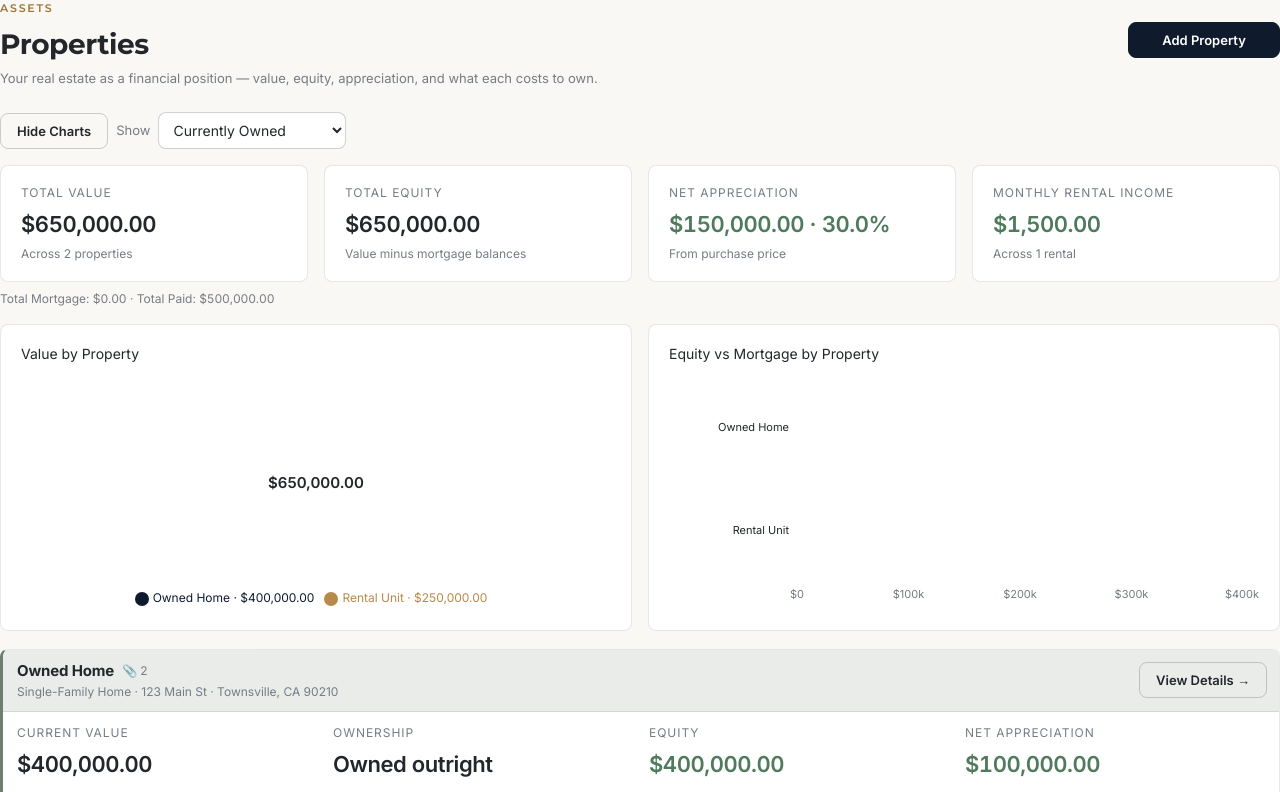
Properties page › toggles charts off and on
Expected: the text "Owned Home" is shown, [17,661,114,680]
Click the button "Hide Charts": (54,130) [0,112,108,148]
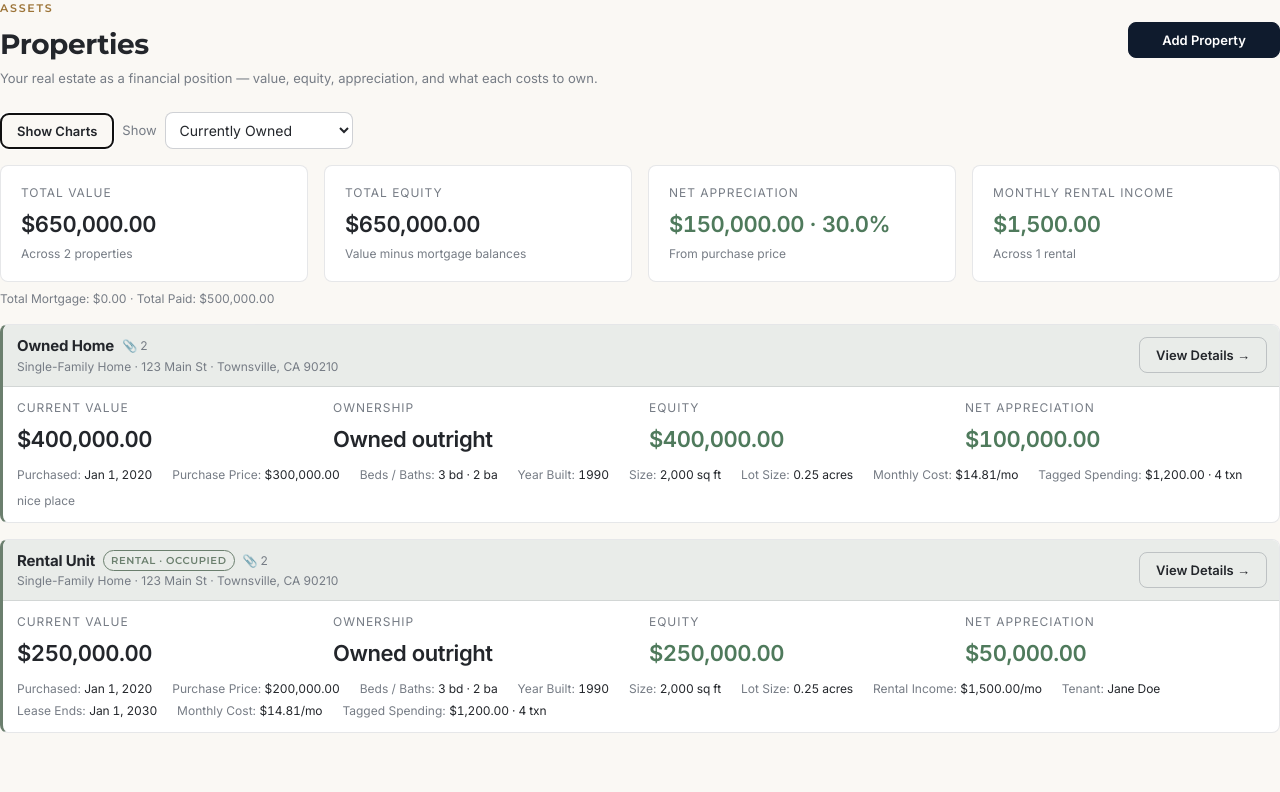
Result: the text "Value by Property" is gone
Click the button "Show Charts": (57,130) [0,112,114,148]
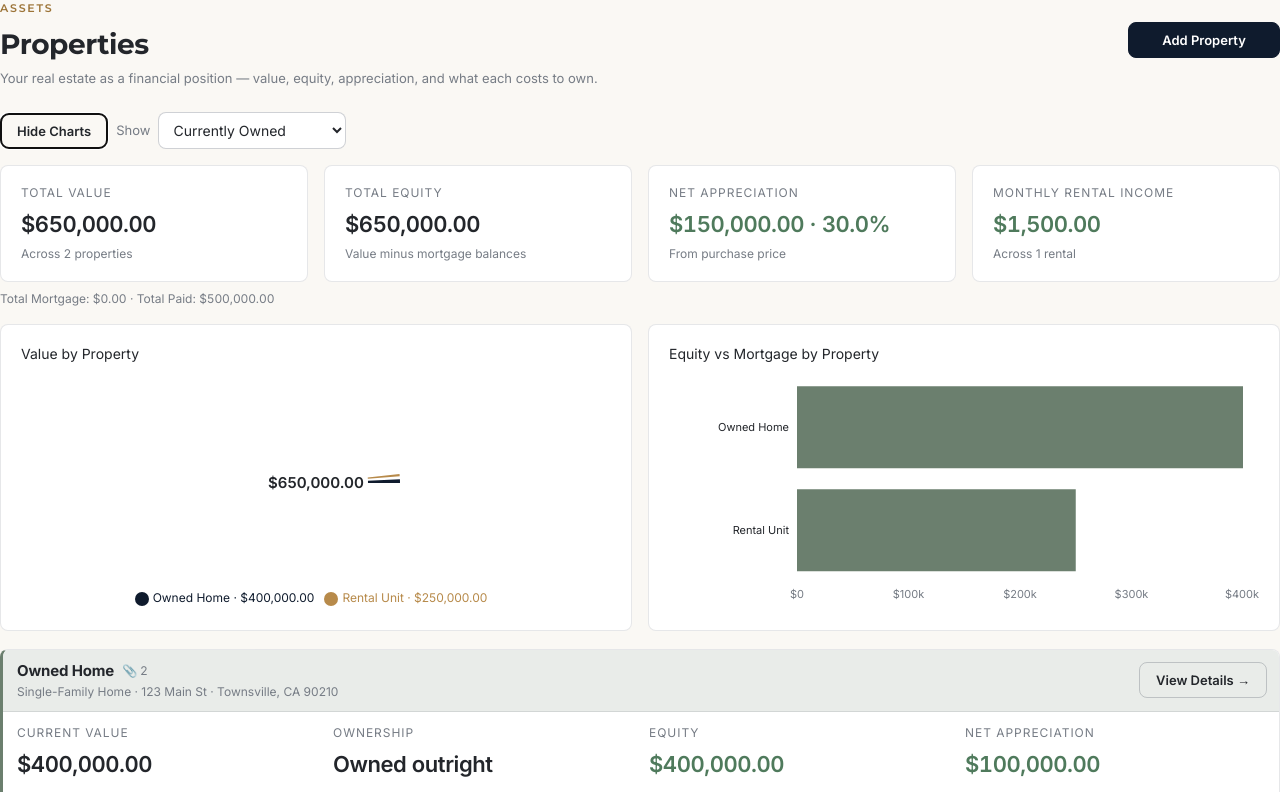
Result: the text "Value by Property" is shown at [21,345,139,362]
